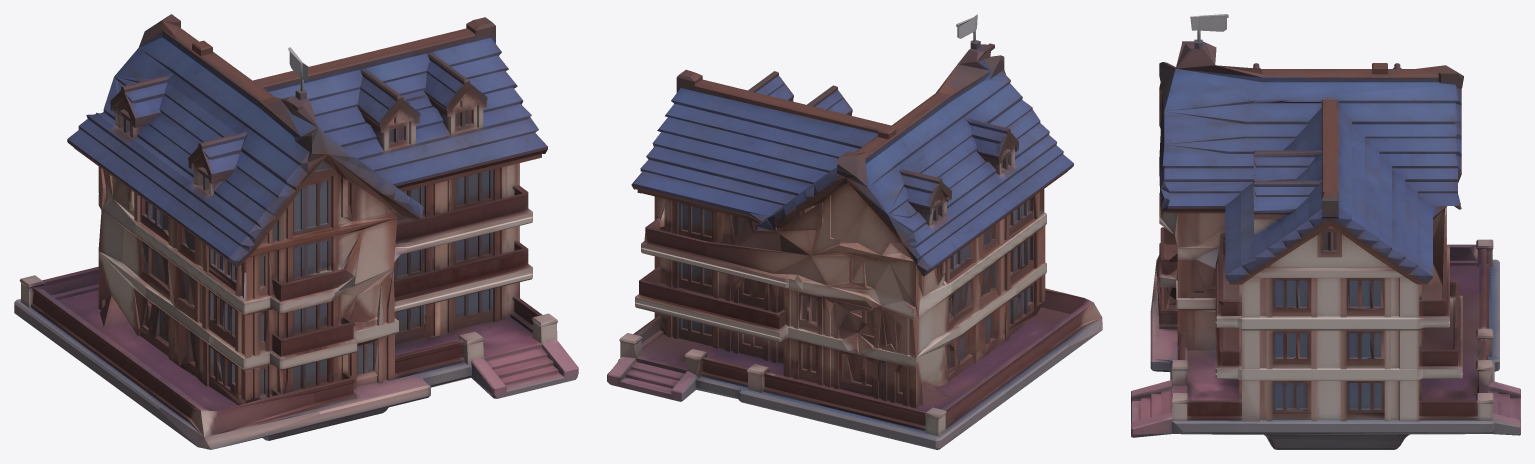
File: large_house.fbx
3 views of the same model, side by side, from view 1: azimuth 30°, elevation 25°; view 2: azimuth 150°, elevation 25°; view 3: azimuth 270°, elevation 25° (orthographic). The views are drawn at different scales.
Parts seen in each view (by area): view 1: texture_pbr_v128; view 2: texture_pbr_v128; view 3: texture_pbr_v128.
Part boxes in pixels (left/top/right/bottom): texture_pbr_v128: left=14, top=14, right=578, bottom=449; texture_pbr_v128: left=607, top=14, right=1102, bottom=449; texture_pbr_v128: left=1131, top=14, right=1520, bottom=449.
Size of the model in its own units: 190 by 174 by 183.
Materials: 1 (1 with a texture image).
